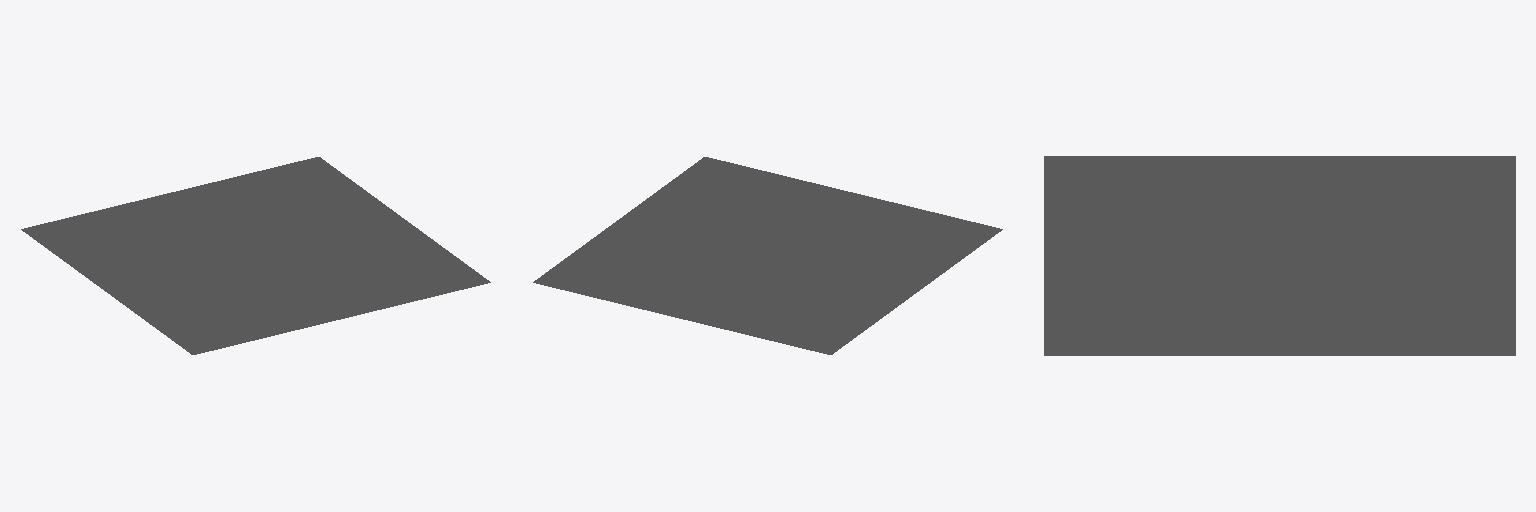
URDF robot description (lab_scene):
<?xml version="1.0" ?>
<robot name="lab_scene" xmlns:xacro="http://ros.org/wiki/xacro">
  <link name="base_link">
    <inertial>
      <mass value="200" />
      <inertia ixx="1.0" ixy="0.0" ixz="0.0" iyy="1.0" iyz="0.0" izz="1.0" />
    </inertial>
    <visual>
      <origin rpy="0 0 0" xyz="0 0 0"/>
      <geometry>
        <mesh filename="package://meshes/flat_ground.stl"/>
      </geometry>
      <material name="">
        <color rgba="0.4 0.4 0.4 1.0"/>
      </material>
    </visual>
    <collision concave="no">
      <origin rpy="0 0 0" xyz="0 0 0"/>
      <geometry>
        <mesh filename="package://meshes/flat_ground.stl"/>
      </geometry>
    </collision>
  </link>
  <gazebo>
    <static>1</static>
  </gazebo>
</robot>

--- What the picture shows (computed from the rendered views, not written in the file) ---
3 views of the same robot in one strip: view 1: azimuth 30°, elevation 25°; view 2: azimuth 150°, elevation 25°; view 3: azimuth 270°, elevation 25° (orthographic).
Model lab_scene with 1 links and 0 joints (none), rooted at base_link, posed every joint at zero.
Visible links, largest first — view 1: base_link; view 2: base_link; view 3: base_link.
Link boxes in pixels (<box>): base_link: <box>21,157,490,354</box>; base_link: <box>533,157,1002,354</box>; base_link: <box>1044,156,1515,355</box>.
Bounding box of the posed robot: 4 × 4 × 0 m (x, y, z).
1 mesh visuals loaded from 1 distinct referenced files (1 binary STL).
